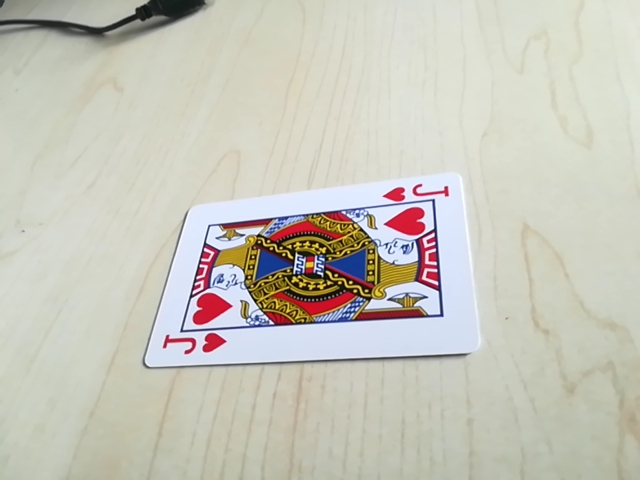hx j: (158, 328, 230, 363), (381, 178, 452, 205)
